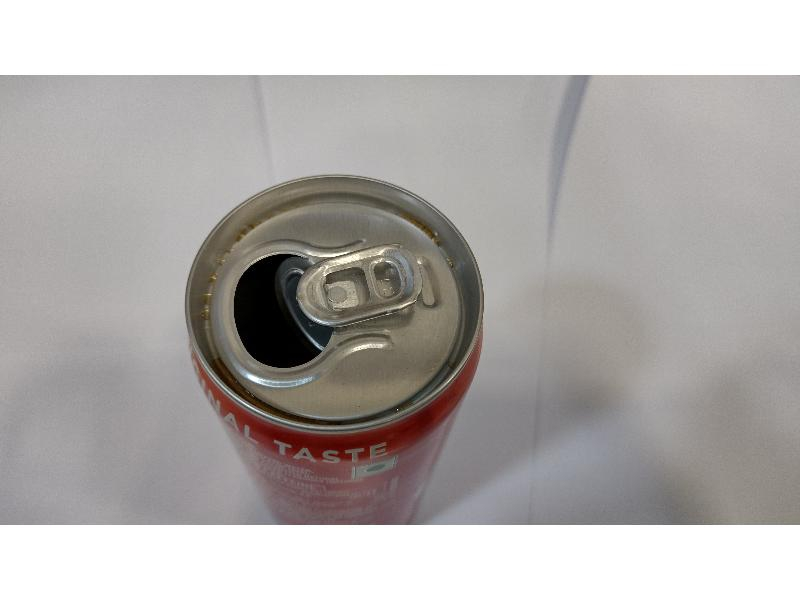can: (179, 170, 488, 520)
